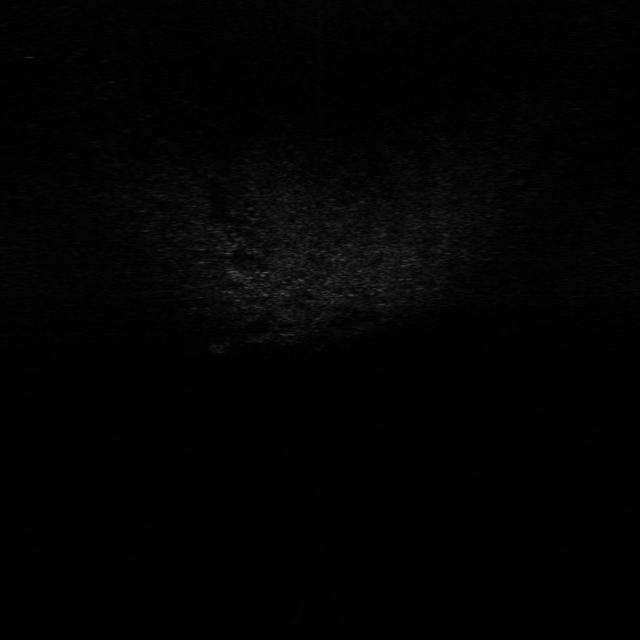cube: (206, 336, 233, 357)
